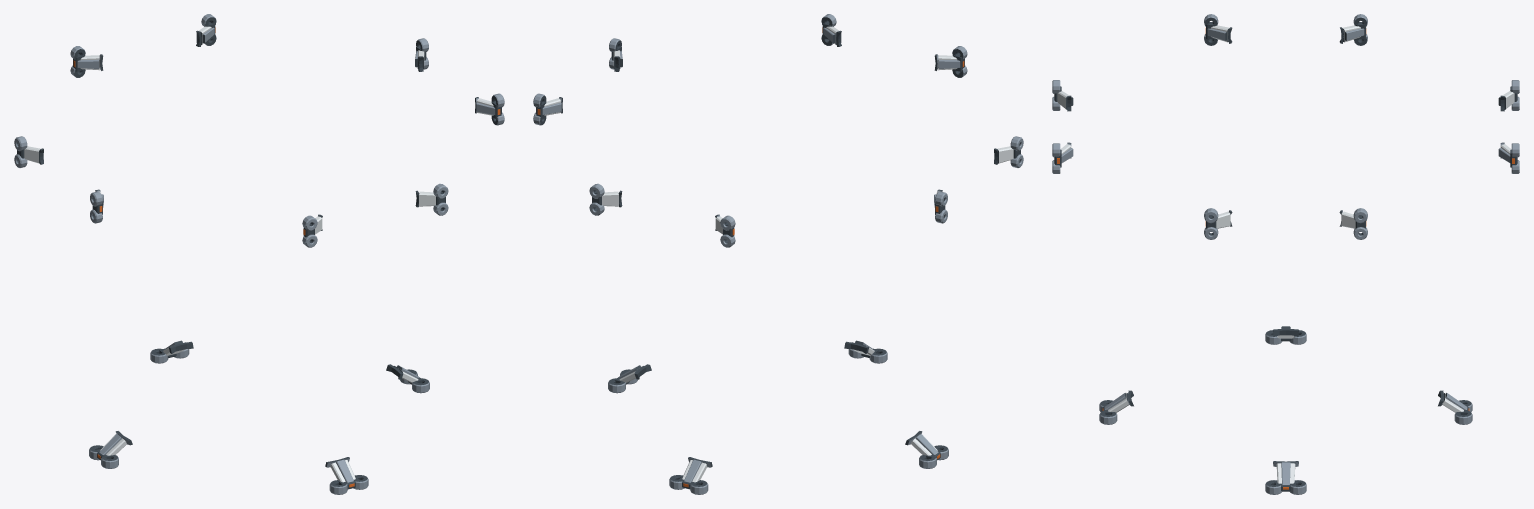
Rendered from soportes_estructurales.glb.
The picture shows the model from 3 angles, left to right: view 1: azimuth 30°, elevation 25°; view 2: azimuth 150°, elevation 25°; view 3: azimuth 270°, elevation 25°; orthographic projection.
Visible parts, largest first — view 1: SOPORTE_PROPULSION | Brazos, refuerzos y fijaciones, SOPORTE_LATERAL | Brazos, refuerzos y fijaciones, SOPORTE_LATERAL_03 | Brazos, refuerzos y fijaciones, SOPORTE_LATERAL_02 | Brazos, refuerzos y fijaciones, SOPORTE_LATERAL_04 | Brazos, refuerzos y fijaciones; view 2: SOPORTE_PROPULSION | Brazos, refuerzos y fijaciones, SOPORTE_LATERAL_03 | Brazos, refuerzos y fijaciones, SOPORTE_LATERAL | Brazos, refuerzos y fijaciones, SOPORTE_LATERAL_02 | Brazos, refuerzos y fijaciones, SOPORTE_LATERAL_04 | Brazos, refuerzos y fijaciones; view 3: SOPORTE_PROPULSION | Brazos, refuerzos y fijaciones, SOPORTE_LATERAL_02 | Brazos, refuerzos y fijaciones, SOPORTE_LATERAL_04 | Brazos, refuerzos y fijaciones, SOPORTE_LATERAL | Brazos, refuerzos y fijaciones, SOPORTE_LATERAL_03 | Brazos, refuerzos y fijaciones.
Part boxes in pixels (x1,y1,x2,y2): SOPORTE_PROPULSION | Brazos, refuerzos y fijaciones: (89, 340, 429, 494); SOPORTE_LATERAL | Brazos, refuerzos y fijaciones: (302, 183, 448, 247); SOPORTE_LATERAL_03 | Brazos, refuerzos y fijaciones: (70, 14, 216, 77); SOPORTE_LATERAL_02 | Brazos, refuerzos y fijaciones: (415, 38, 504, 125); SOPORTE_LATERAL_04 | Brazos, refuerzos y fijaciones: (14, 136, 103, 223); SOPORTE_PROPULSION | Brazos, refuerzos y fijaciones: (608, 340, 948, 494); SOPORTE_LATERAL_03 | Brazos, refuerzos y fijaciones: (589, 183, 735, 247); SOPORTE_LATERAL | Brazos, refuerzos y fijaciones: (821, 14, 967, 77); SOPORTE_LATERAL_02 | Brazos, refuerzos y fijaciones: (533, 38, 622, 125); SOPORTE_LATERAL_04 | Brazos, refuerzos y fijaciones: (934, 136, 1023, 223); SOPORTE_PROPULSION | Brazos, refuerzos y fijaciones: (1099, 326, 1472, 494); SOPORTE_LATERAL_02 | Brazos, refuerzos y fijaciones: (1204, 208, 1367, 239); SOPORTE_LATERAL_04 | Brazos, refuerzos y fijaciones: (1204, 14, 1367, 45); SOPORTE_LATERAL | Brazos, refuerzos y fijaciones: (1052, 80, 1073, 173); SOPORTE_LATERAL_03 | Brazos, refuerzos y fijaciones: (1498, 80, 1519, 173).
Bounding box in the file's own units: 3.34 × 2.4 × 3.34.
